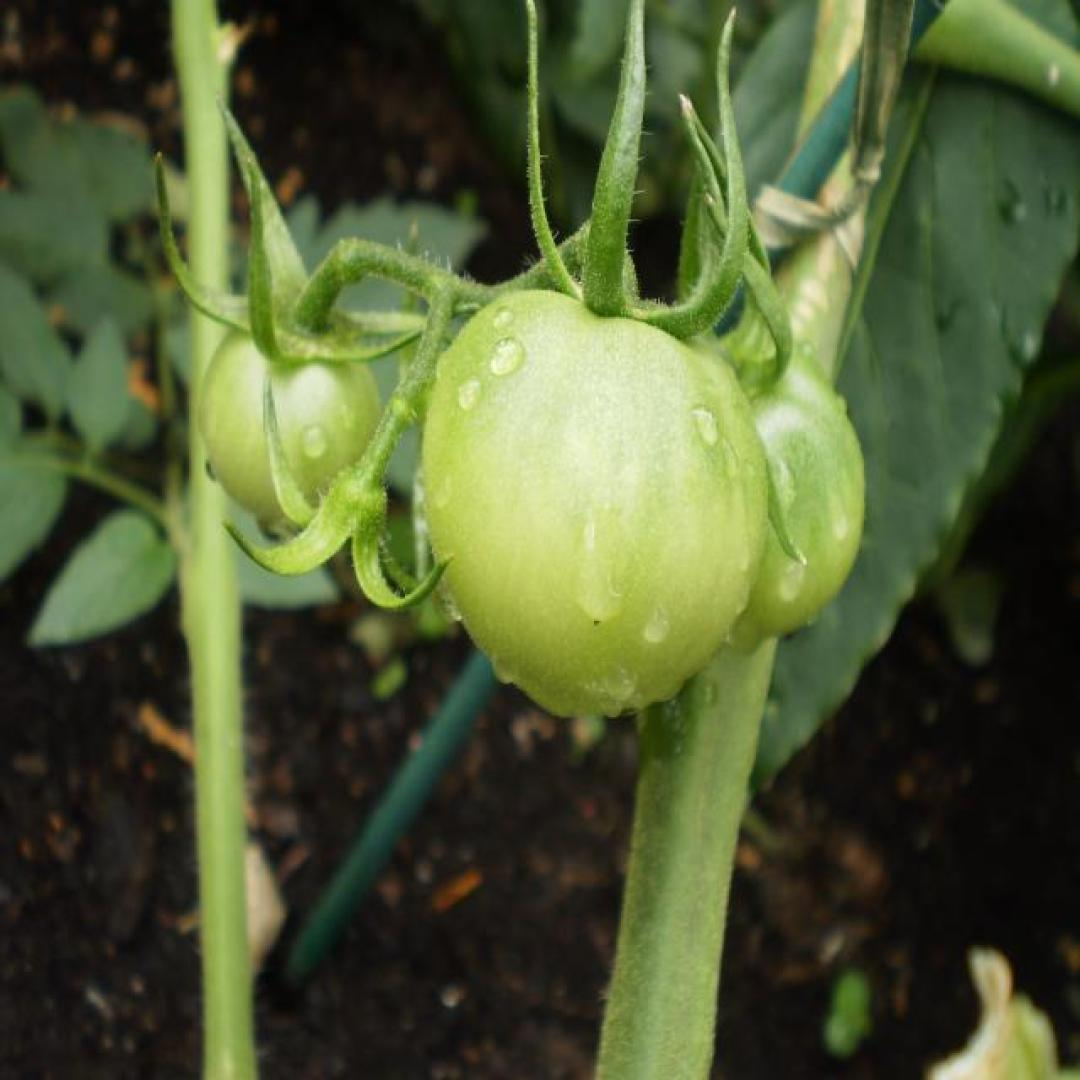mentah: (420, 290, 773, 721), (196, 312, 388, 537)
